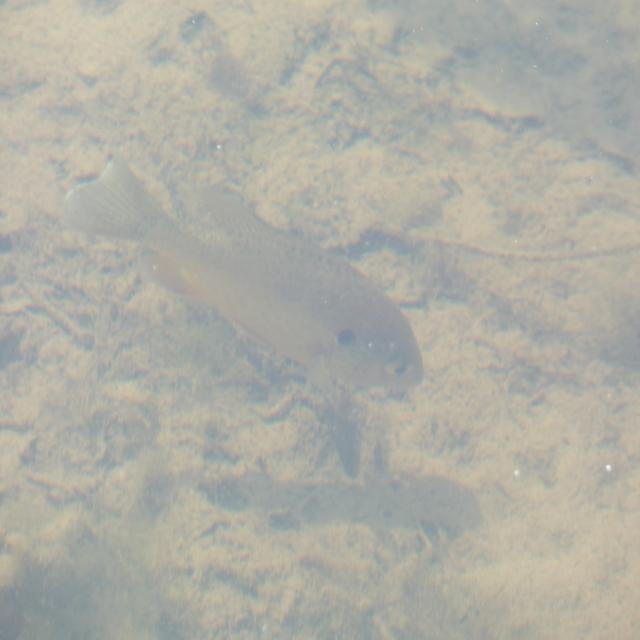Gunes Levregi: (59, 148, 426, 402)
